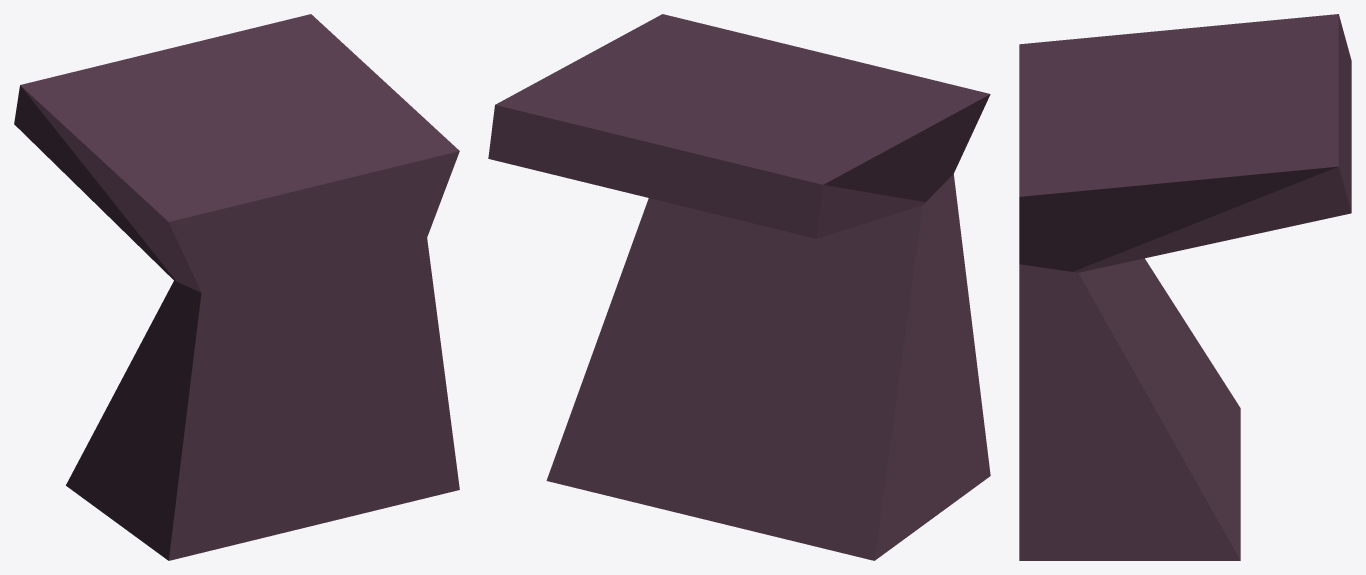
Rendered from table.fbx.
3 renders of one model, left to right at view 1: azimuth 30°, elevation 25°; view 2: azimuth 150°, elevation 25°; view 3: azimuth 270°, elevation 25°, orthographic. The views are drawn at different scales.
Parts seen in each view (by area): view 1: Cube; view 2: Cube; view 3: Cube.
Part boxes in pixels (x1,y1,x2,y2): Cube: (14, 14, 459, 560); Cube: (488, 14, 990, 560); Cube: (1019, 14, 1351, 560).
Size of the model in its own units: 102 by 123 by 94.04.
